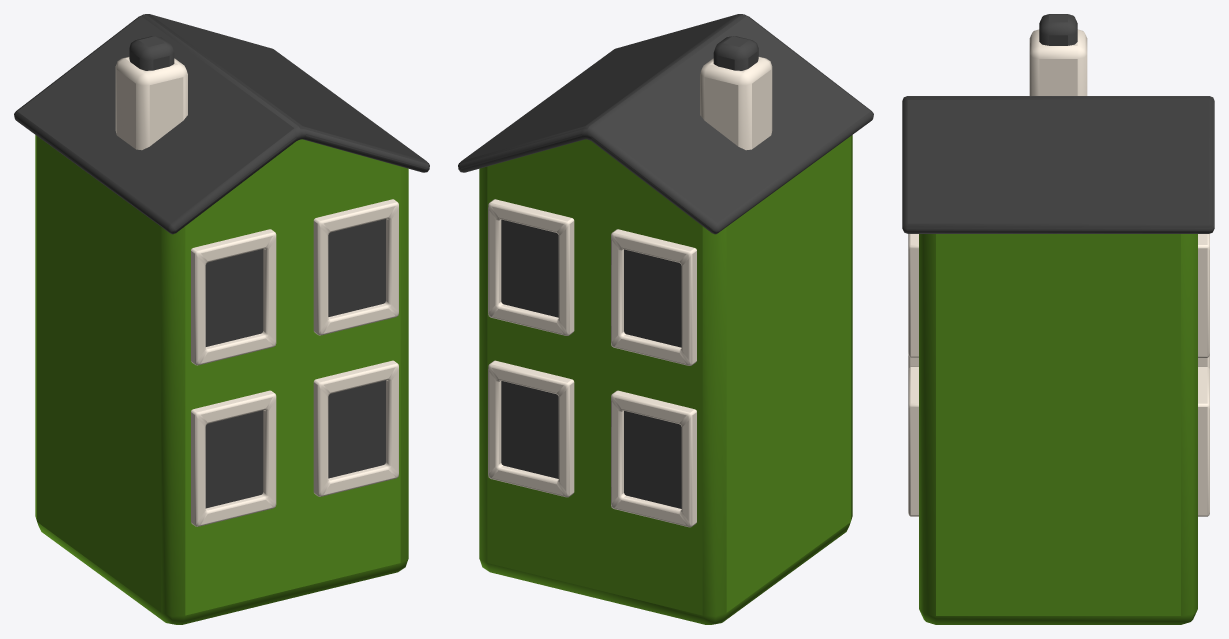
The model's file is Map_buliding_G.fbx.
The picture shows the model from 3 angles, left to right: view 1: azimuth 30°, elevation 25°; view 2: azimuth 150°, elevation 25°; view 3: azimuth 270°, elevation 25°; orthographic projection.
Visible parts, largest first — view 1: Map_buliding_G; view 2: Map_buliding_G; view 3: Map_buliding_G.
Part boxes in pixels (x1=…): Map_buliding_G: x1=14, y1=14, x2=429, y2=624; Map_buliding_G: x1=458, y1=14, x2=873, y2=624; Map_buliding_G: x1=902, y1=14, x2=1214, y2=624.
Bounding box in the file's own units: 2.13 × 4.12 × 2.24.
